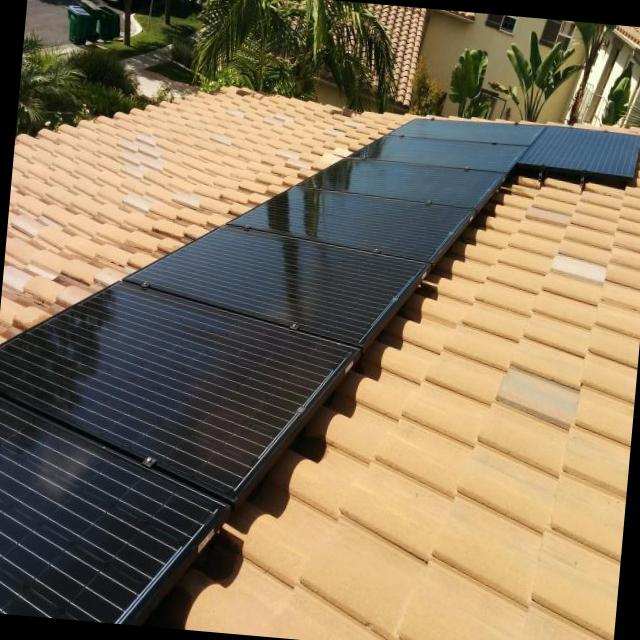no faulty: (0, 282, 352, 484), (0, 393, 223, 618), (126, 231, 425, 347), (232, 189, 463, 263), (302, 161, 505, 206), (347, 137, 523, 172), (519, 124, 639, 175), (387, 120, 542, 143)
